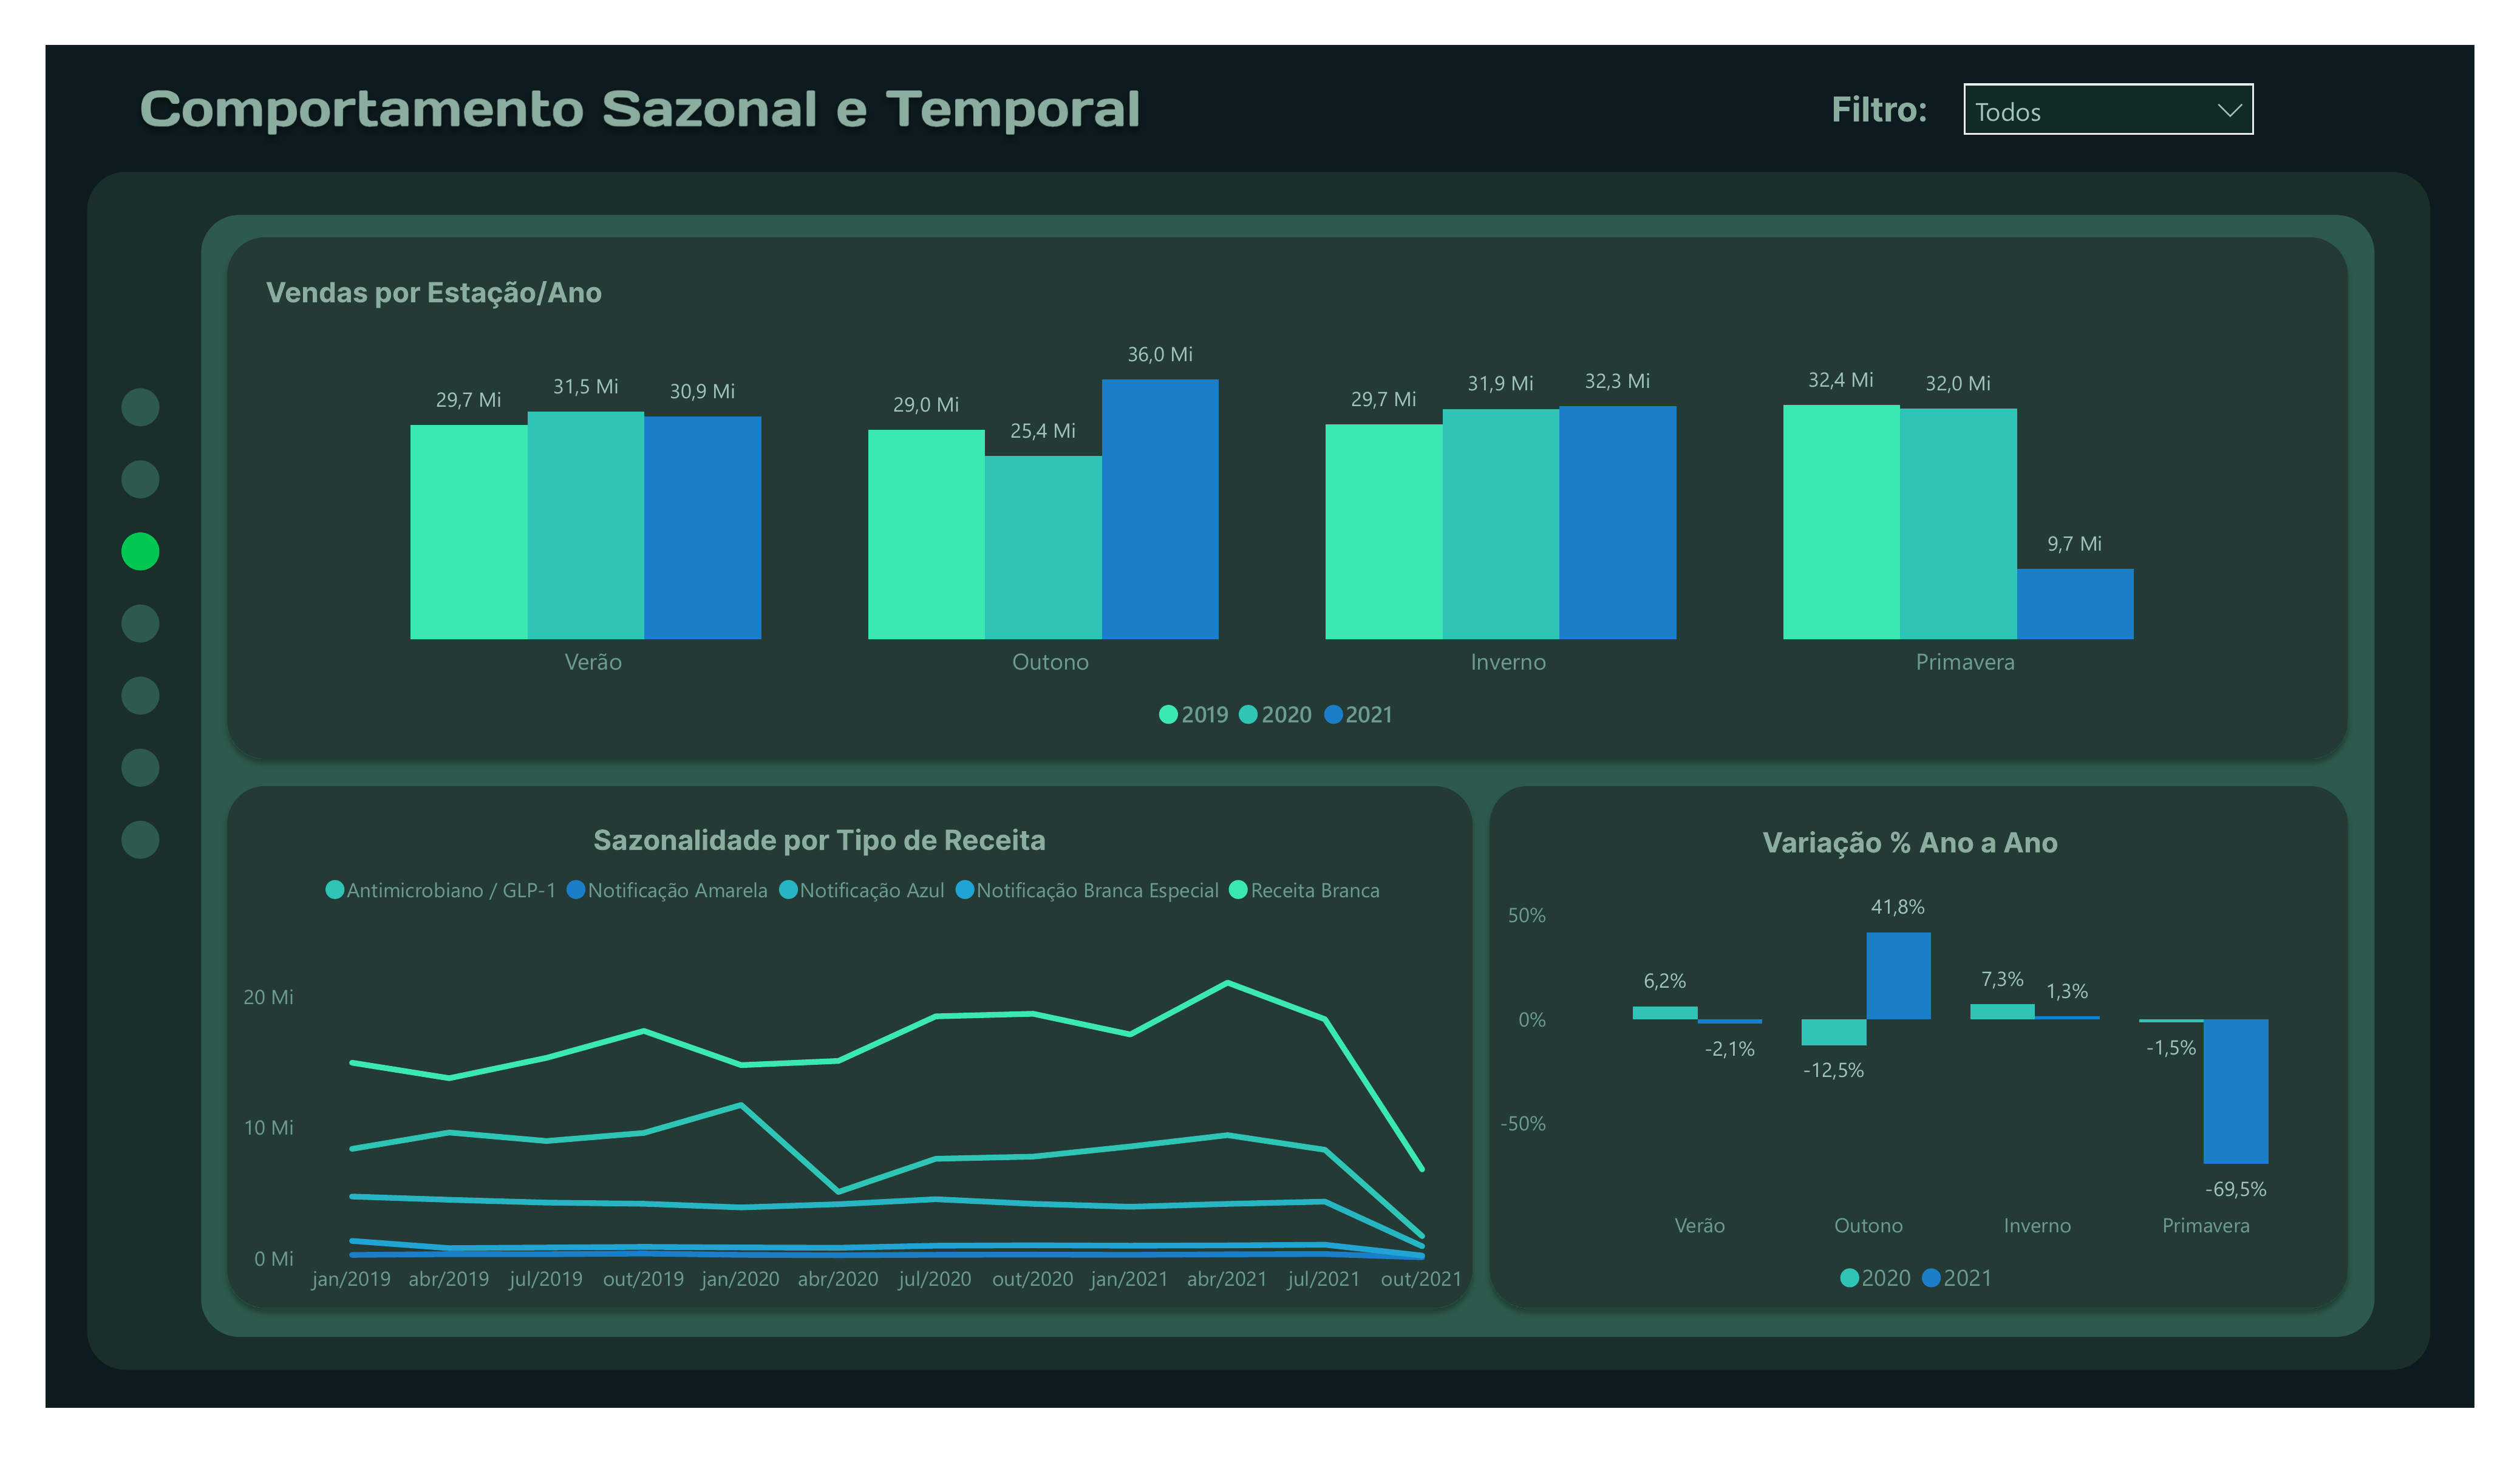

Layout of this report page (visuals, bound fields, positions):
{"tool":"powerbi","page":{"name":"Temporal","canvas":[1280,720],"ordinal":2},"visuals":[{"type":"lineClusteredColumnComboChart","fields":{"Category":["Estações.Estação"],"Series":["Vendas Temporal.Ano"],"Y":["Sum(Vendas Temporal.Qtd Total Vendas)"]},"box":[91.4,140,1118.6,231.4],"z":0},{"type":"lineChart","fields":{"Category":["Vendas Temporal.Periodo"],"Series":["Vendas Temporal.Receita"],"Y":["Sum(Vendas Temporal.Qtd Total Vendas)"]},"box":[99,426,657,242],"z":1000},{"type":"lineClusteredColumnComboChart","fields":{"Category":["Estações.Estação"],"Y":["_Medidas.Variação % YoY"],"Series":["Vendas Temporal.Ano"]},"box":[761.3,432,453.3,236],"z":2000}]}

Visuals, with their boxes on the page's 1280x720 design canvas (x1, y1, x2, y2). These are canvas units, not pixel positions in the 2520x1457 screenshot, which may show the page scaled, cropped or inside an application window:
lineClusteredColumnComboChart - Estações.Estação x Vendas Temporal.Ano: select_region(91, 140, 1210, 371)
lineChart - Vendas Temporal.Periodo x Vendas Temporal.Receita: select_region(99, 426, 756, 668)
lineClusteredColumnComboChart - Estações.Estação x _Medidas.Variação % YoY: select_region(761, 432, 1215, 668)
